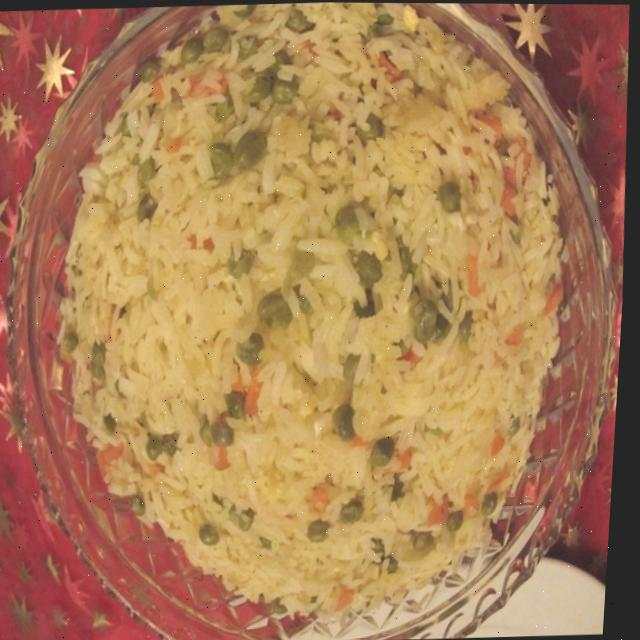米饭主食: (0, 17, 610, 637)
